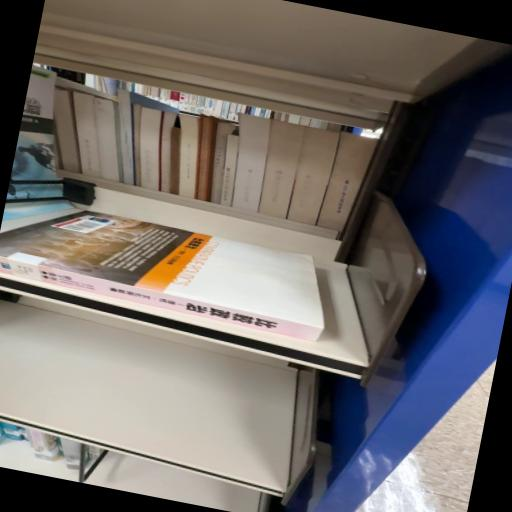flat: (1, 213, 325, 342)
